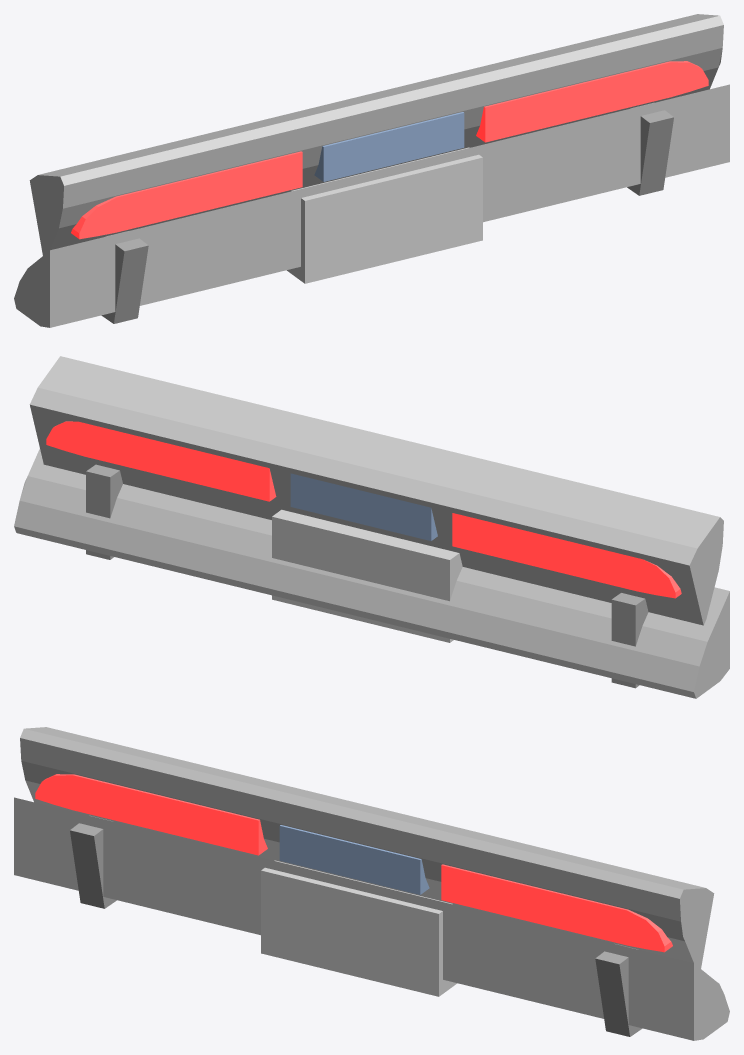
File: paraurti_post.fbx
The picture shows the model from 3 angles, top to bottom: view 1: azimuth 30°, elevation 25°; view 2: azimuth 150°, elevation 25°; view 3: azimuth 330°, elevation 25°; orthographic projection.
Visible parts, largest first — view 1: Cube_3_3, Cube_5_3, Cube_6_3, Cube_5_4, Cube_4_3, Cube_7_8; view 2: Cube_5_3, Cube_3_3, Cube_5_4, Cube_6_3, Cube_4_3, Cube_7_8; view 3: Cube_3_3, Cube_5_3, Cube_6_3, Cube_5_4, Cube_4_3, Cube_7_8.
Boxes of the visible parts, <box> form: Cube_3_3: <box>14,84,729,327</box>; Cube_5_3: <box>29,14,723,255</box>; Cube_6_3: <box>287,147,482,283</box>; Cube_5_4: <box>71,61,708,239</box>; Cube_4_3: <box>314,112,464,181</box>; Cube_7_8: <box>101,102,673,323</box>; Cube_5_3: <box>29,356,723,625</box>; Cube_3_3: <box>14,448,729,698</box>; Cube_5_4: <box>46,421,681,598</box>; Cube_6_3: <box>272,509,462,642</box>; Cube_4_3: <box>290,473,437,540</box>; Cube_7_8: <box>86,464,648,688</box>; Cube_3_3: <box>14,797,729,1040</box>; Cube_5_3: <box>20,727,714,968</box>; Cube_6_3: <box>261,860,456,996</box>; Cube_5_4: <box>35,774,672,952</box>; Cube_4_3: <box>279,825,429,894</box>; Cube_7_8: <box>70,815,642,1036</box>.
Bounding box in the file's own units: 170 × 39.04 × 19.67.
